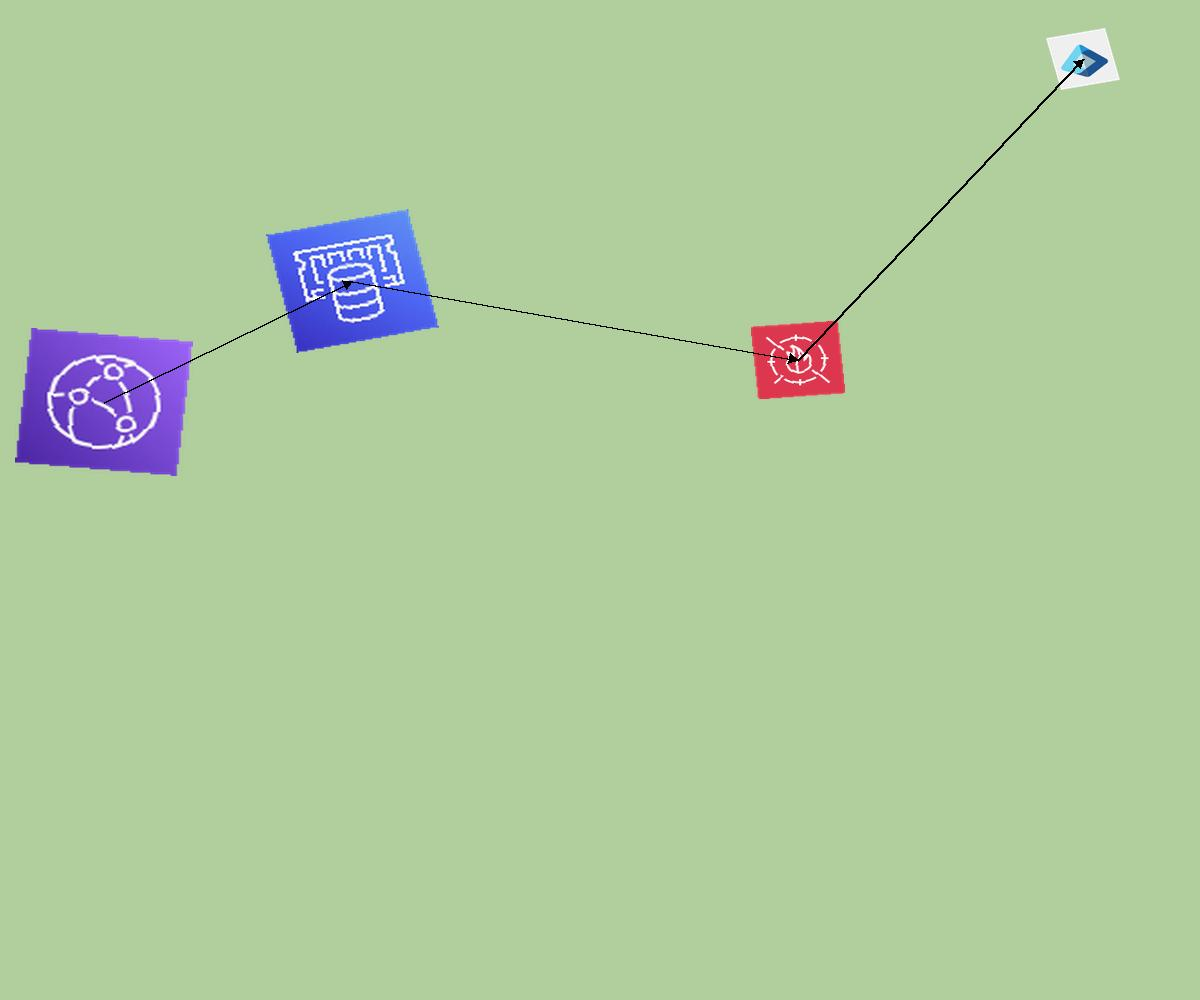AWS-CloudFront: (15, 328, 193, 476)
AWS-ElastiCache: (266, 209, 439, 353)
AWS-WAF: (750, 320, 846, 400)
Azure_microsoft_entra: (1046, 28, 1120, 90)
